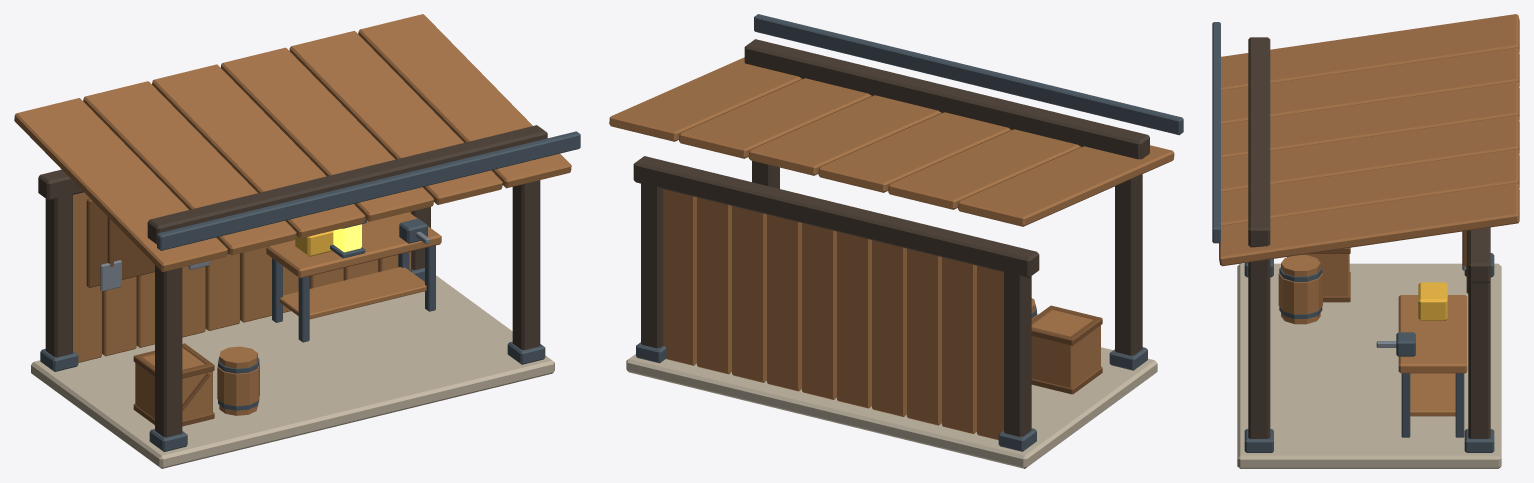
File: Quarry_ToolShelter.fbx
3 views of the same model, side by side, from view 1: azimuth 30°, elevation 25°; view 2: azimuth 150°, elevation 25°; view 3: azimuth 270°, elevation 25° (orthographic).
Visible parts, largest first — view 1: Wood, Concrete, Timber, Frame, WoodDark, Steel, Amber_Metal, Lamp; view 2: Wood, Timber, Concrete, Frame, WoodDark; view 3: Wood, Concrete, Timber, Frame, Amber_Metal, WoodDark.
Boxes of the visible parts, bbox=[...] form: Wood: bbox=[14, 14, 571, 420]; Concrete: bbox=[31, 275, 554, 468]; Timber: bbox=[38, 125, 547, 437]; Frame: bbox=[40, 131, 580, 451]; WoodDark: bbox=[86, 198, 228, 426]; Steel: bbox=[100, 231, 430, 291]; Amber_Metal: bbox=[295, 230, 333, 256]; Lamp: bbox=[333, 224, 361, 252]; Wood: bbox=[609, 57, 1174, 440]; Timber: bbox=[633, 39, 1149, 436]; Concrete: bbox=[626, 347, 1157, 468]; Frame: bbox=[636, 14, 1183, 451]; WoodDark: bbox=[1031, 305, 1102, 394]; Wood: bbox=[1219, 14, 1519, 416]; Concrete: bbox=[1237, 263, 1501, 468]; Timber: bbox=[1248, 37, 1490, 438]; Frame: bbox=[1212, 22, 1494, 452]; Amber_Metal: bbox=[1418, 282, 1447, 320]; WoodDark: bbox=[1287, 230, 1468, 302].
Size of the model in its own units: 10 by 5.84 by 6.28.
